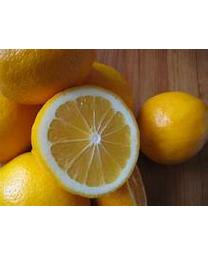lemon: (31, 85, 141, 198), (140, 92, 207, 168)
